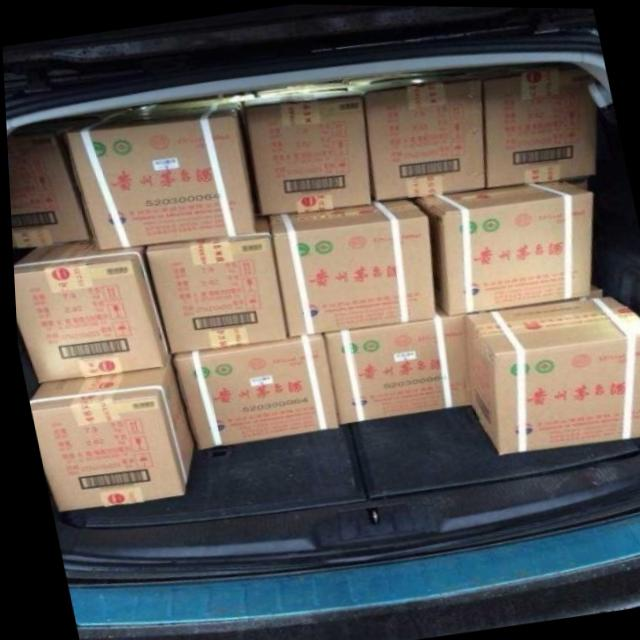box: (62, 99, 254, 250), (461, 294, 640, 454), (25, 354, 190, 512), (412, 177, 591, 314), (267, 197, 433, 336), (11, 239, 166, 384), (141, 214, 285, 354), (169, 332, 335, 449), (320, 301, 469, 424), (342, 72, 483, 201), (462, 60, 598, 187), (241, 88, 371, 216), (6, 118, 97, 247), (463, 283, 600, 312), (128, 89, 256, 112), (335, 66, 466, 84), (256, 80, 351, 97), (44, 106, 131, 120)
